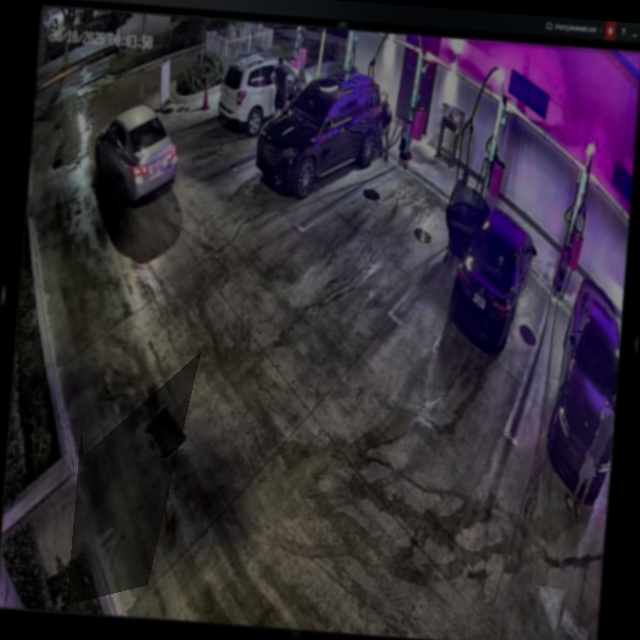Car: (255, 62, 393, 206), (439, 185, 541, 350), (91, 100, 184, 206)
